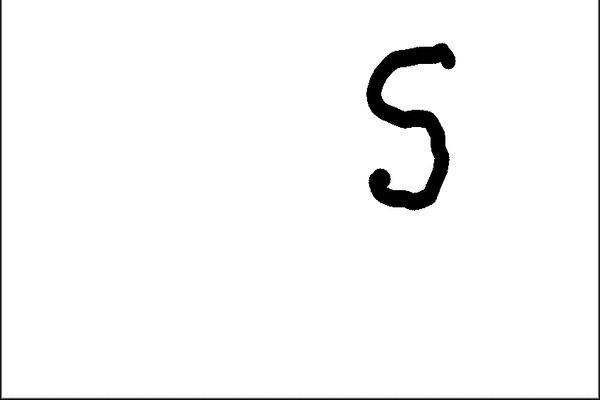S: (356, 38, 466, 215)
